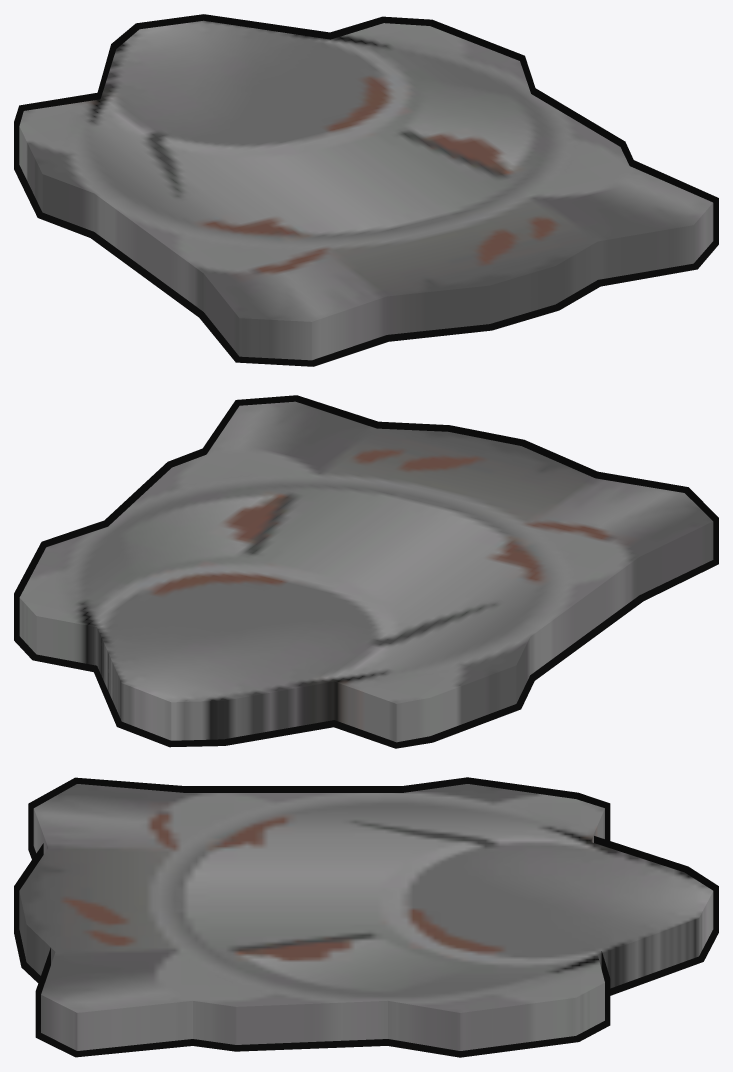
File: Item_ActiveDropPodAncient_Things_Building_AncientLaunchPod_AncientLaunchPodC.glb
The picture shows the model from 3 angles, top to bottom: view 1: azimuth 30°, elevation 25°; view 2: azimuth 150°, elevation 25°; view 3: azimuth 270°, elevation 25°; orthographic projection.
Visible parts, largest first — view 1: Body, Outline; view 2: Body, Outline; view 3: Body, Outline.
Boxes of the visible parts, x1,y1,x2,y2 form: Body: (19,20,713,360); Outline: (14,14,718,366); Body: (19,401,713,742); Outline: (14,395,718,748); Body: (19,784,713,1050); Outline: (14,777,718,1057).
Bounding box in the file's own units: 0.5979 × 0.0587 × 0.7618.
2 materials, 1 textured.
